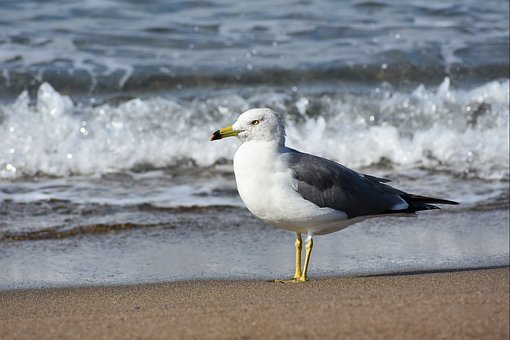beach: (1, 2, 506, 337)
bird: (181, 113, 412, 267)
